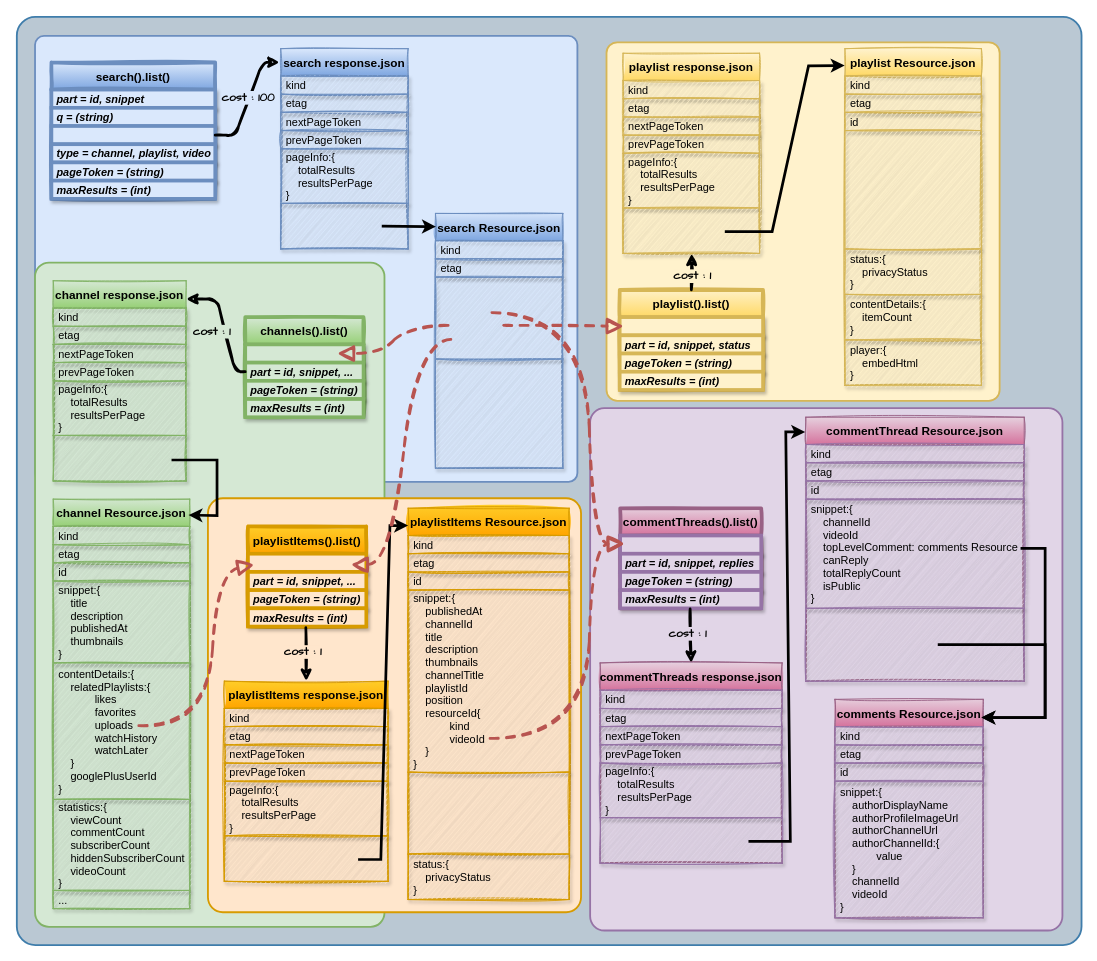
Some shapes in this 1097 by 961 pixel diagram are drawn without their labels. The centre of each missing label's shape, as x and y in pixels:
channelId = (string): the point at 692,327
contentDetails:{ videoId startAt endAt note }: the point at 489,814
id = channel_id: the point at 304,354
id:{ kind videoId channelId playlistId }: the point at 499,319
items:[ channel Resource ]: the point at 120,459
items:[ commentThread Resource ]: the point at 692,841
items:[ playlist Resource ]: the point at 692,231
items:[ playlistItems Resource ]: the point at 307,859
items:[ search Resource ]: the point at 345,227
order = data, rating, title...: the point at 134,136
playlistId = (string): the point at 307,564
replies:{ comment:[ comments Resource ] }: the point at 915,646
snippet:{ publishedAt channelId title description thumbnails channelTitle tag }: the point at 913,190
snippet:{ publishedAt channelId title description thumbnails channelTitle }: the point at 499,414
videoId = (string): the point at 691,545
